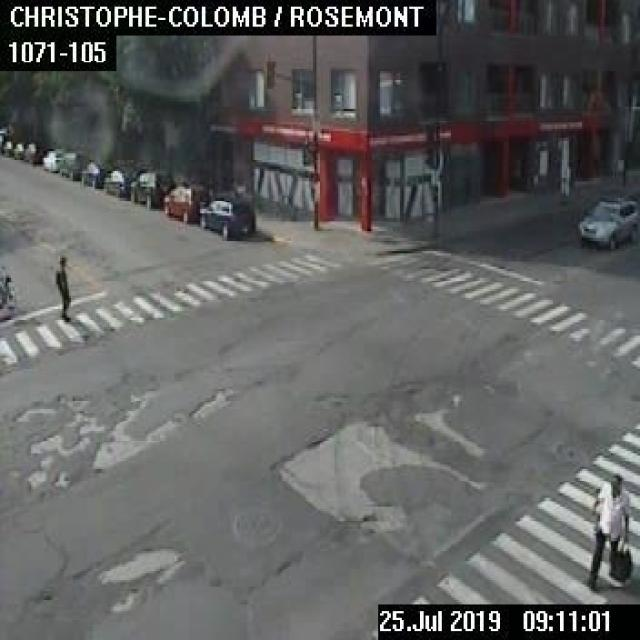pedestrian: (586, 473, 630, 587), (53, 253, 70, 320)
vehicle: (576, 196, 638, 248), (198, 197, 254, 239), (130, 170, 173, 208), (164, 184, 208, 220), (102, 168, 136, 196), (79, 160, 115, 186), (58, 152, 87, 178), (24, 142, 46, 164), (42, 149, 65, 170), (13, 142, 25, 159), (1, 140, 13, 155)
